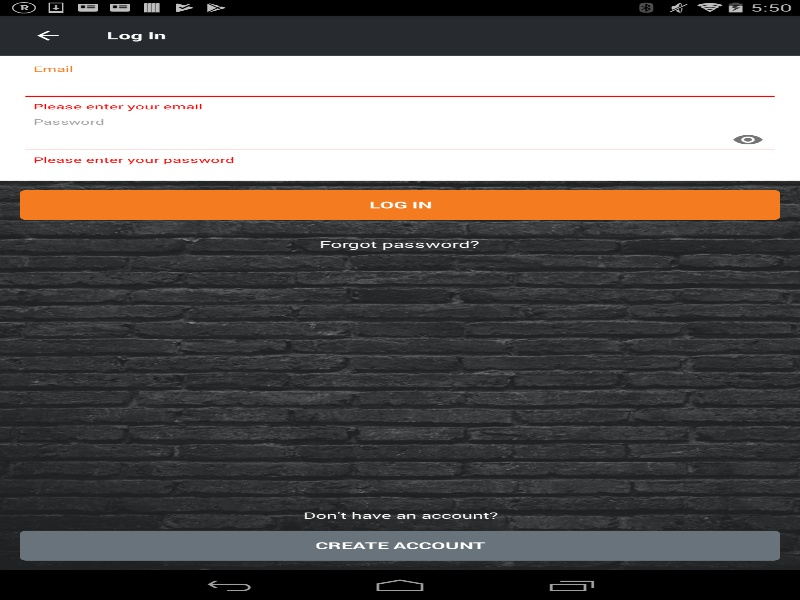Button: (20, 530, 780, 560), (20, 190, 780, 219), (319, 229, 480, 259), (10, 15, 85, 55), (716, 124, 780, 154)
Input: (20, 71, 780, 101), (20, 125, 780, 154)
